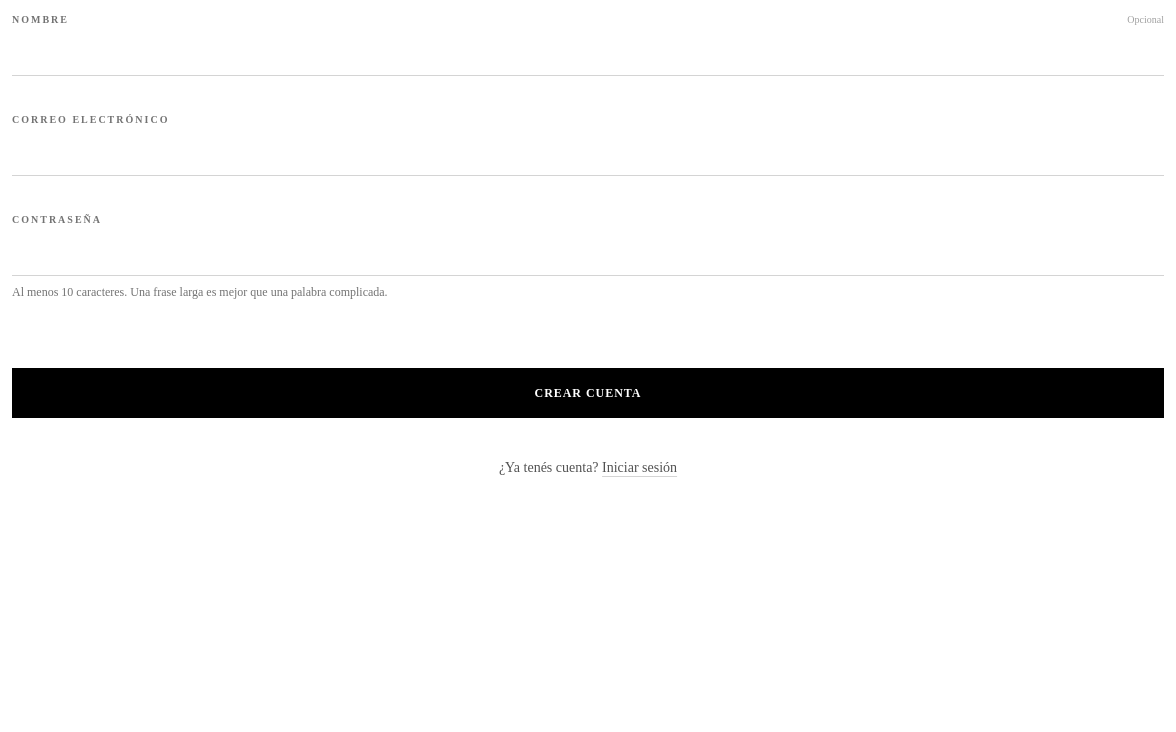
Test: SignUpForm: submit › shows the generic registration failure without revealing whether the email exists
Type "Ana Perez" into the field labelled "Nombre Opcional" at (588, 52), box left=12, top=27, right=1164, bottom=76
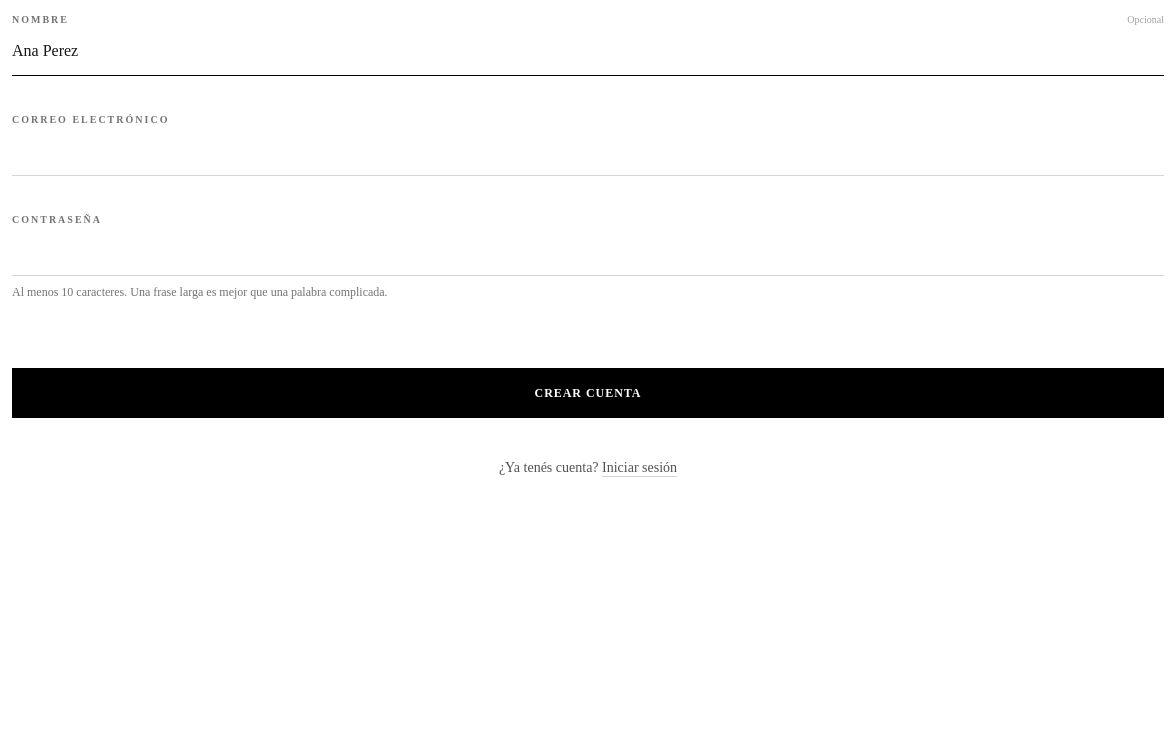
Type "ana@example.com" into the field labelled "Correo electrónico" at (588, 152), box left=12, top=127, right=1164, bottom=176
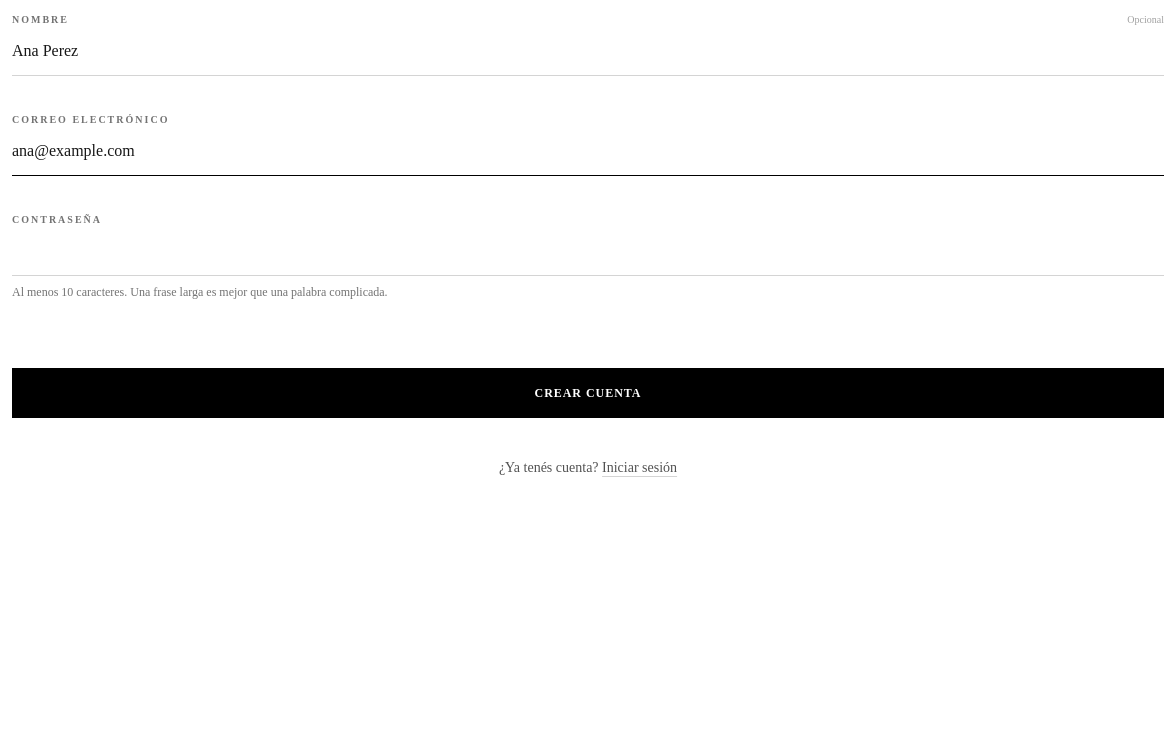
Type "tortuga-azul-bicicleta-77" into the password field labelled "Contraseña" at (588, 252), box left=12, top=227, right=1164, bottom=276
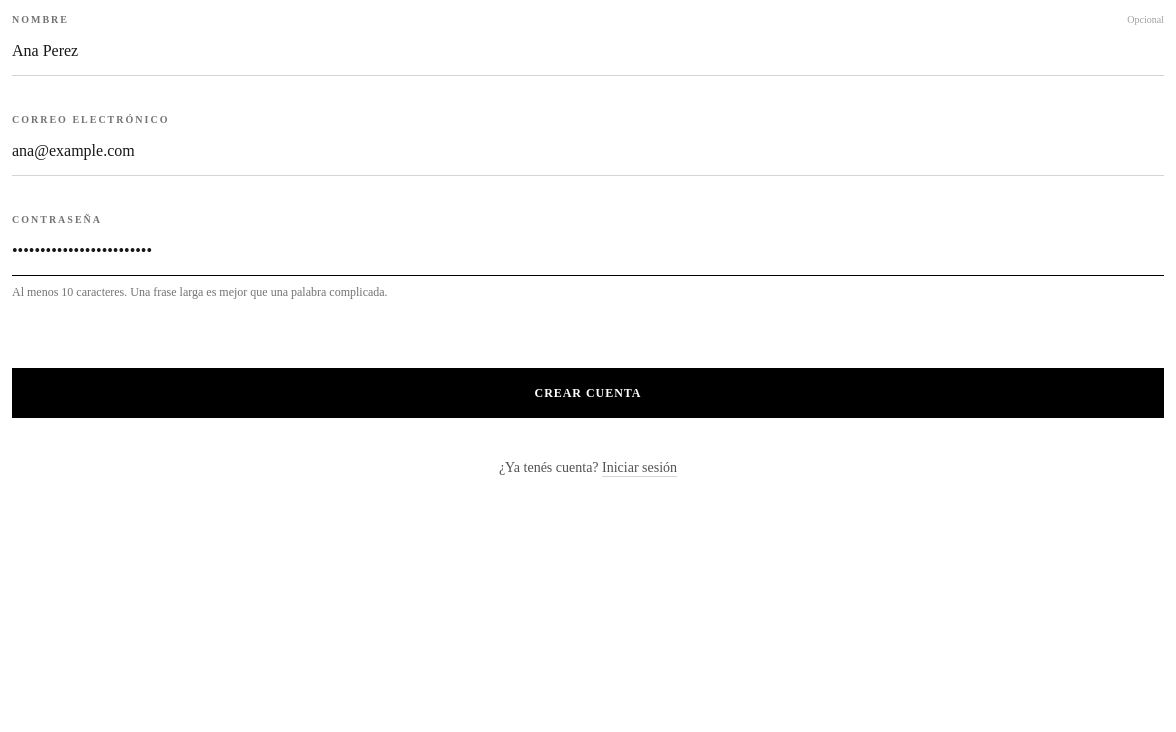
Click the button "Crear cuenta" at (588, 393), box left=12, top=368, right=1164, bottom=418
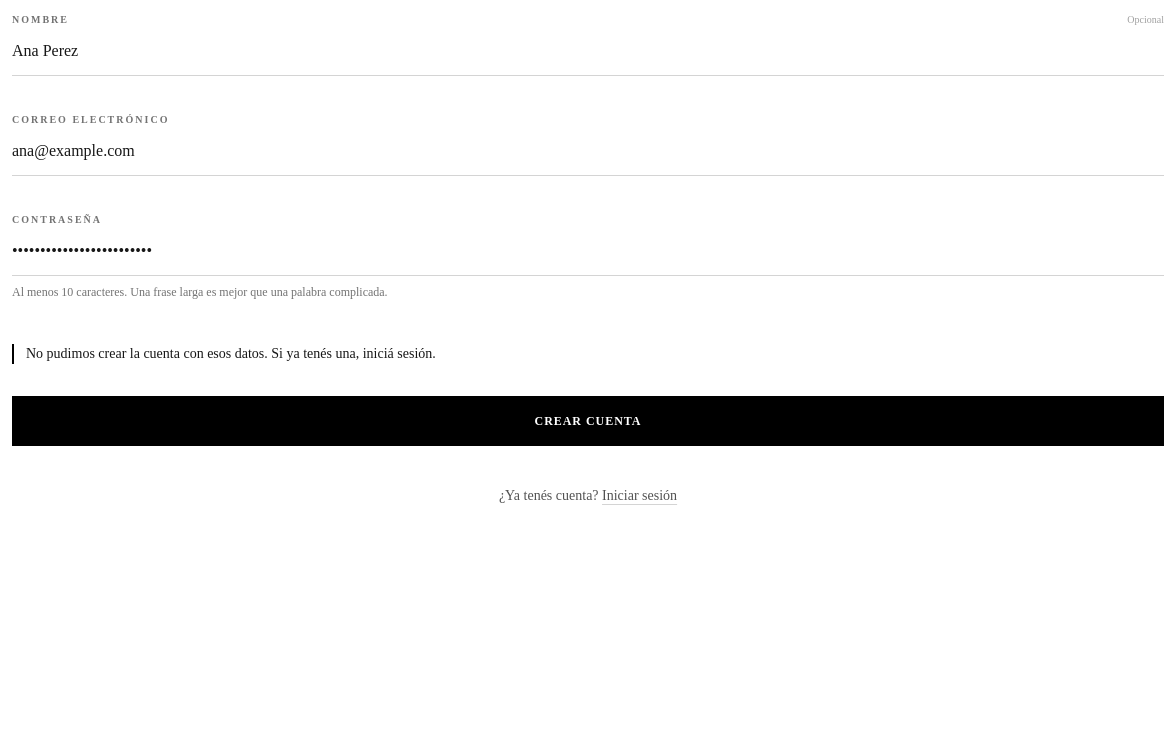
Expected: the message shows "No pudimos crear la cuenta", left=26, top=346, right=436, bottom=361
